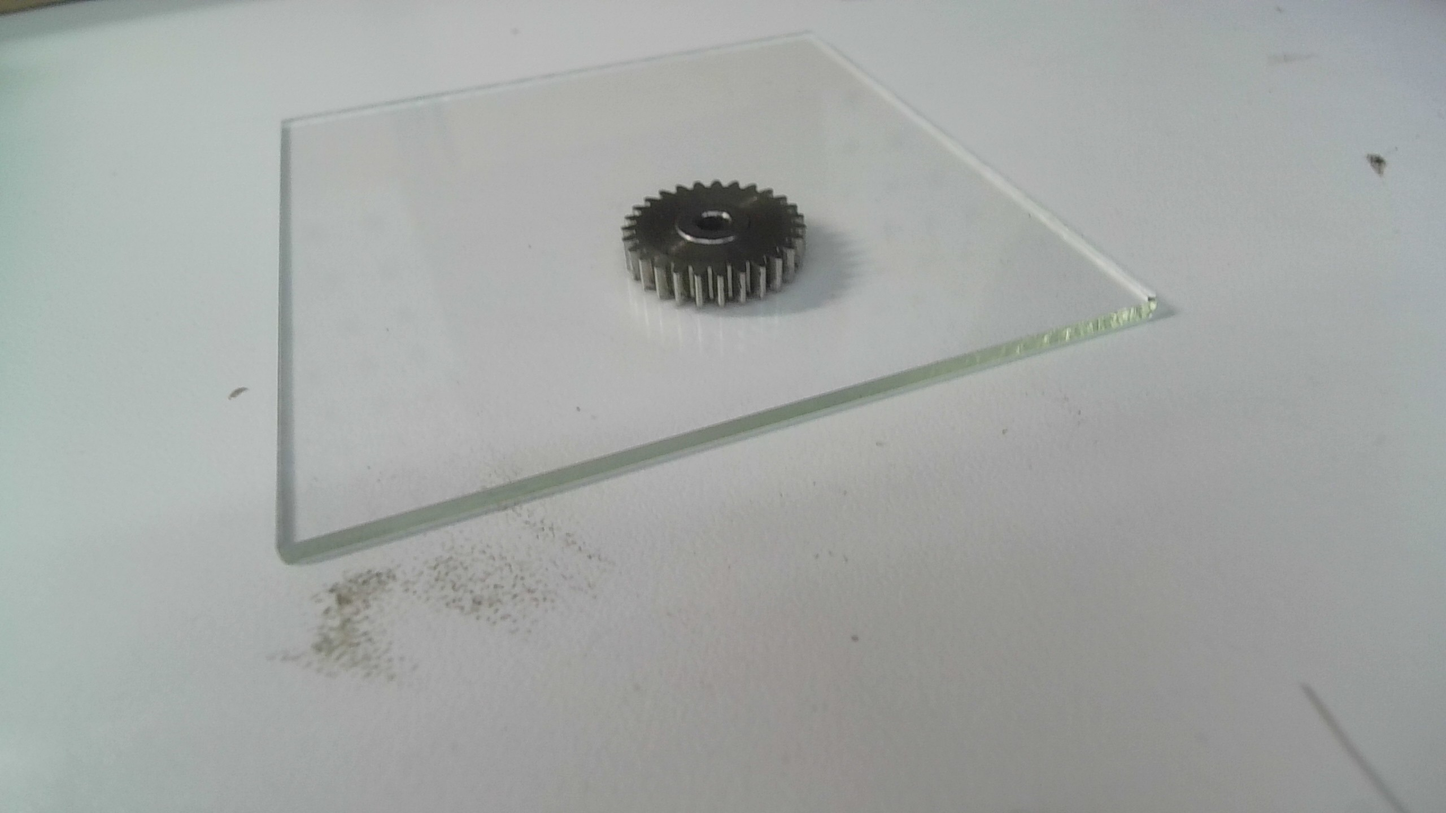gear: (618, 176, 812, 314)
